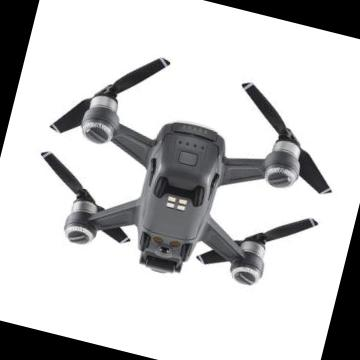drone: (11, 38, 360, 318)
